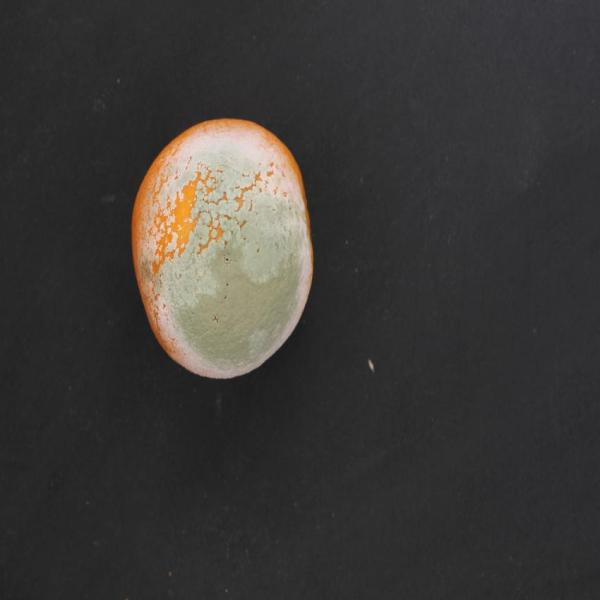Moho verde: (116, 102, 329, 398)
